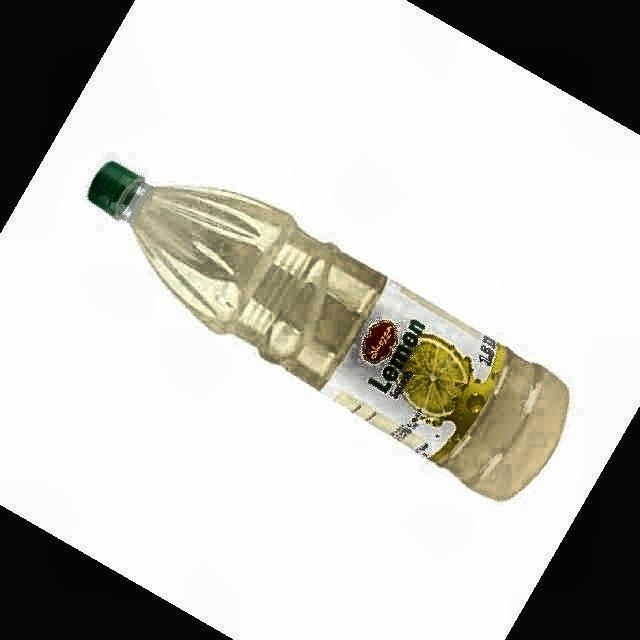plastic: (89, 161, 569, 500)
